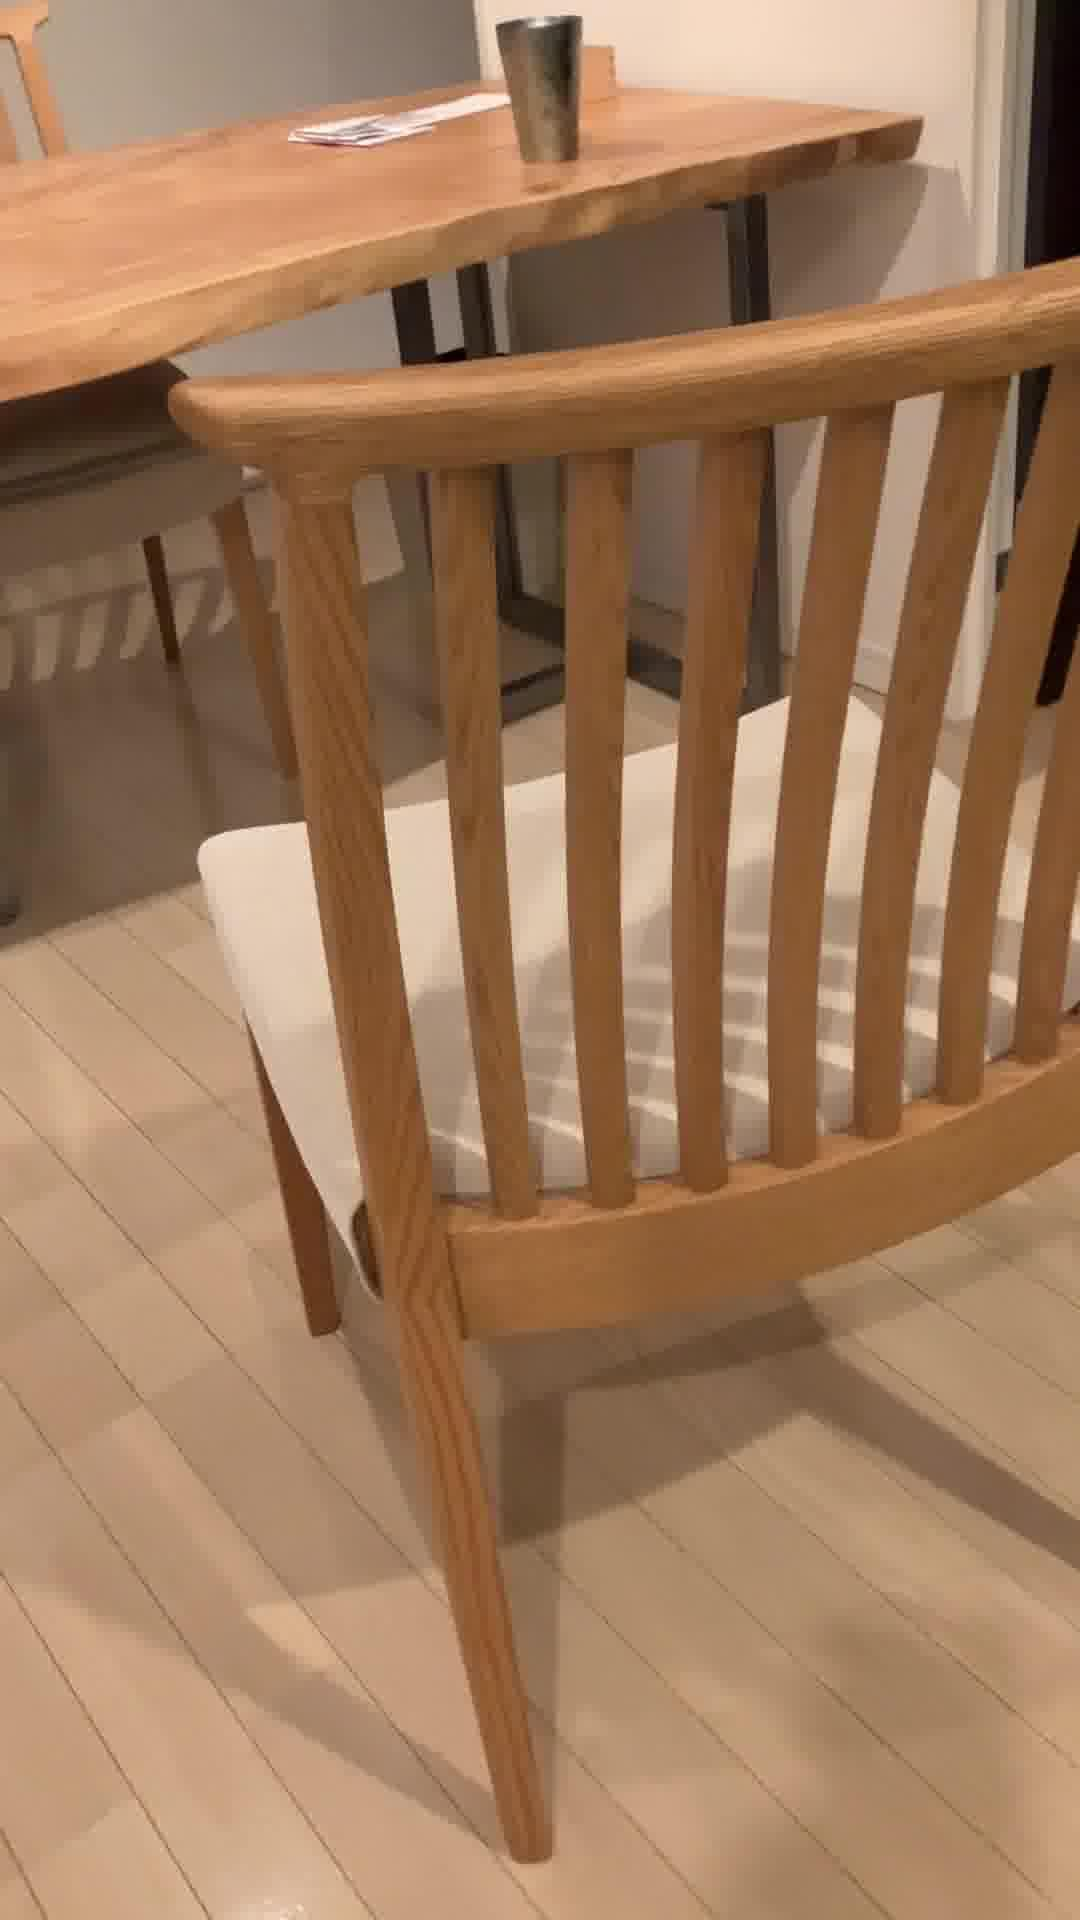takumikan-chair: (166, 251, 1080, 1867)
